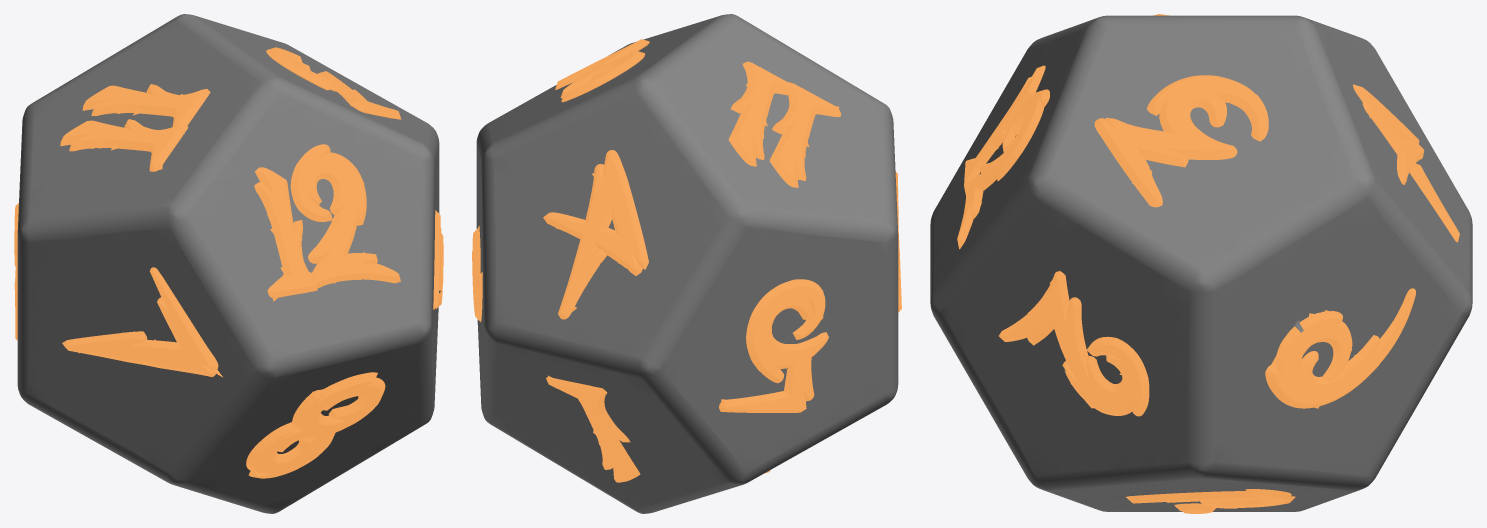
The picture shows the model from 3 angles, left to right: view 1: azimuth 30°, elevation 25°; view 2: azimuth 150°, elevation 25°; view 3: azimuth 270°, elevation 25°; orthographic projection. The views are drawn at different scales.
Visible parts, largest first — view 1: d12_0, d12_1; view 2: d12_0, d12_1; view 3: d12_0, d12_1.
Part boxes in pixels (bbox=[...]): d12_0: bbox=[17, 14, 440, 513]; d12_1: bbox=[14, 47, 443, 478]; d12_0: bbox=[476, 14, 898, 513]; d12_1: bbox=[472, 39, 901, 482]; d12_0: bbox=[930, 15, 1472, 511]; d12_1: bbox=[957, 14, 1459, 513].
Bounding box in the file's own units: 3.18 × 3.18 × 3.18.
